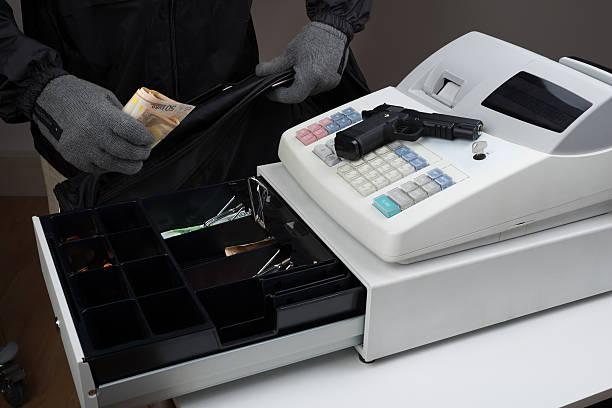weapon: (334, 100, 485, 162)
